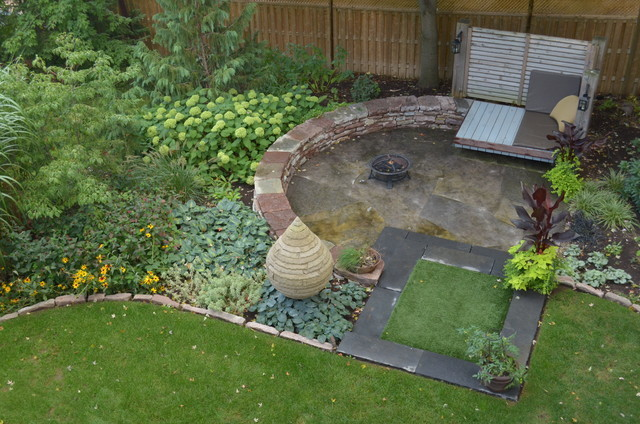container: (342, 247, 383, 274)
